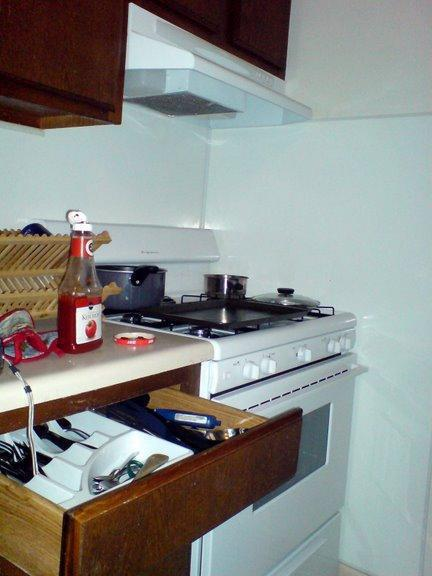Electrodomestico: (200, 328, 338, 567)
